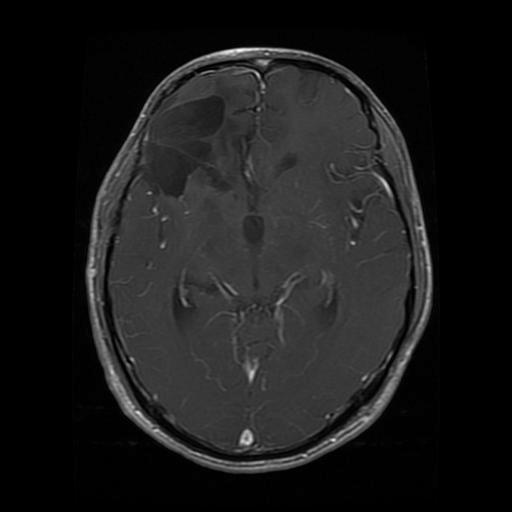Tumour-Glioma: (143, 96, 232, 198)
